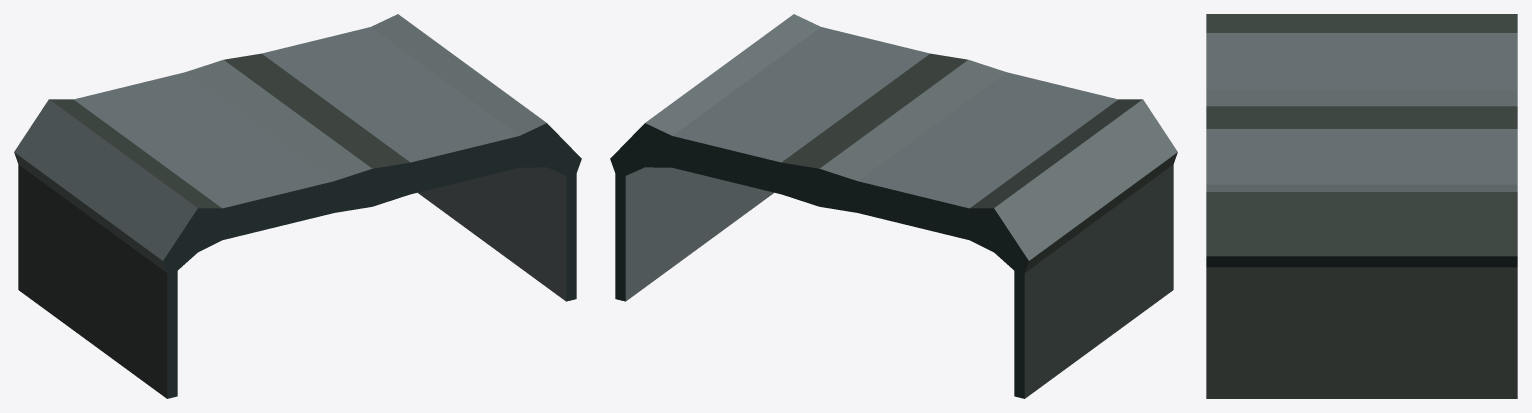
The model's file is slicerv4.fbx.
3 renders of one model, left to right at view 1: azimuth 30°, elevation 25°; view 2: azimuth 150°, elevation 25°; view 3: azimuth 270°, elevation 25°, orthographic. The views are drawn at different scales.
Parts seen in each view (by area): view 1: Cube; view 2: Cube; view 3: Cube.
Boxes of the visible parts, x1,y1,x2,y2 form: Cube: (14,14,581,398); Cube: (610,14,1177,398); Cube: (1206,14,1517,398).
Size of the model in its own units: 325 by 136 by 200.
Materials: 1 (1 with a texture image).
